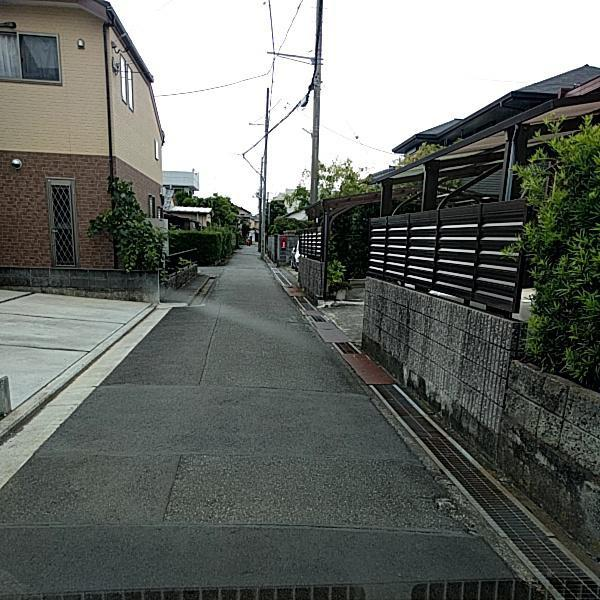D40: (425, 487, 480, 531)
